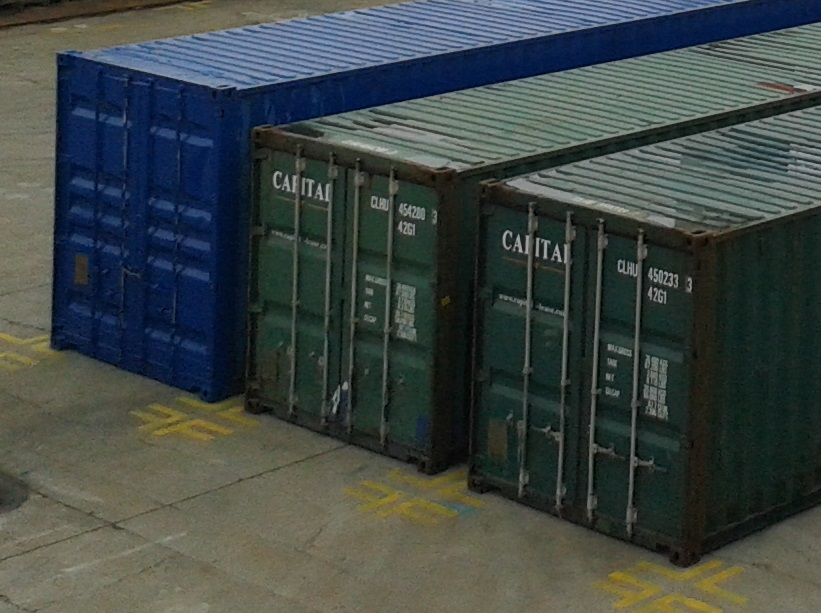container_door: (479, 165, 696, 560), (247, 126, 440, 483), (45, 75, 234, 365)
